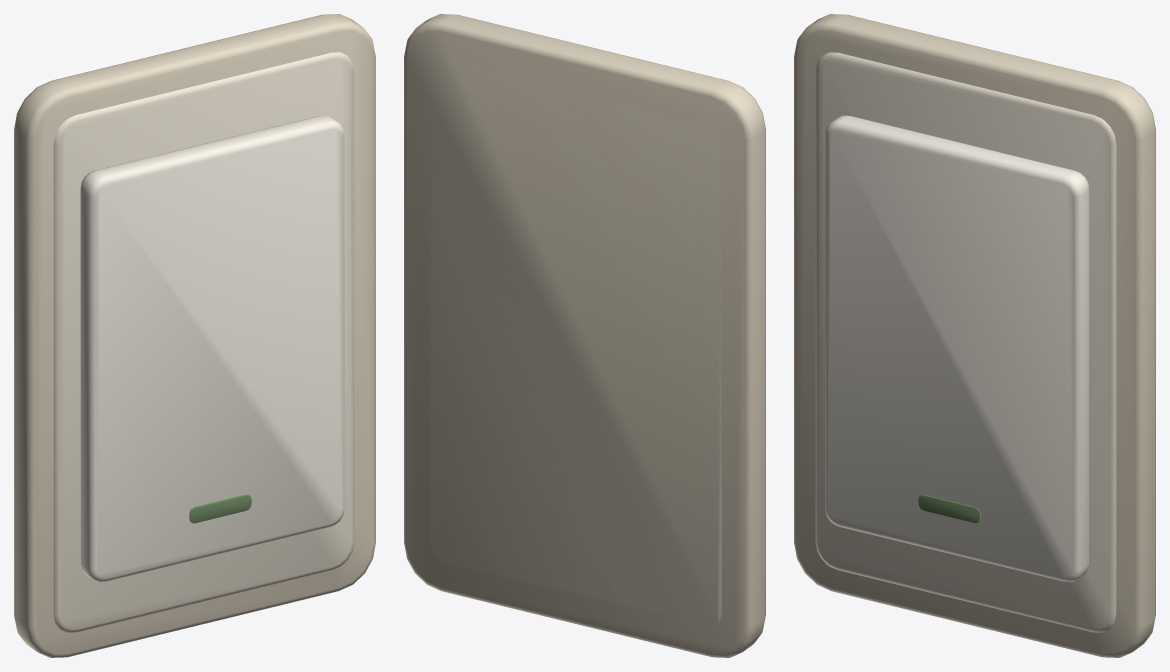
The model's file is lightswitch.glb.
The picture shows the model from 3 angles, left to right: view 1: azimuth 30°, elevation 25°; view 2: azimuth 150°, elevation 25°; view 3: azimuth 330°, elevation 25°; orthographic projection.
Parts seen in each view (by area): view 1: SwitchRocker, SwitchPlate, SwitchLamp; view 2: SwitchPlate; view 3: SwitchRocker, SwitchPlate, SwitchLamp.
Part boxes in pixels (bbox=[...]): SwitchRocker: bbox=[80, 115, 344, 581]; SwitchPlate: bbox=[14, 14, 375, 657]; SwitchLamp: bbox=[189, 494, 251, 523]; SwitchPlate: bbox=[404, 14, 765, 657]; SwitchRocker: bbox=[825, 115, 1089, 581]; SwitchPlate: bbox=[794, 14, 1155, 657]; SwitchLamp: bbox=[918, 494, 980, 523].
Size of the model in its own units: 0.09 by 0.14 by 0.0156.
